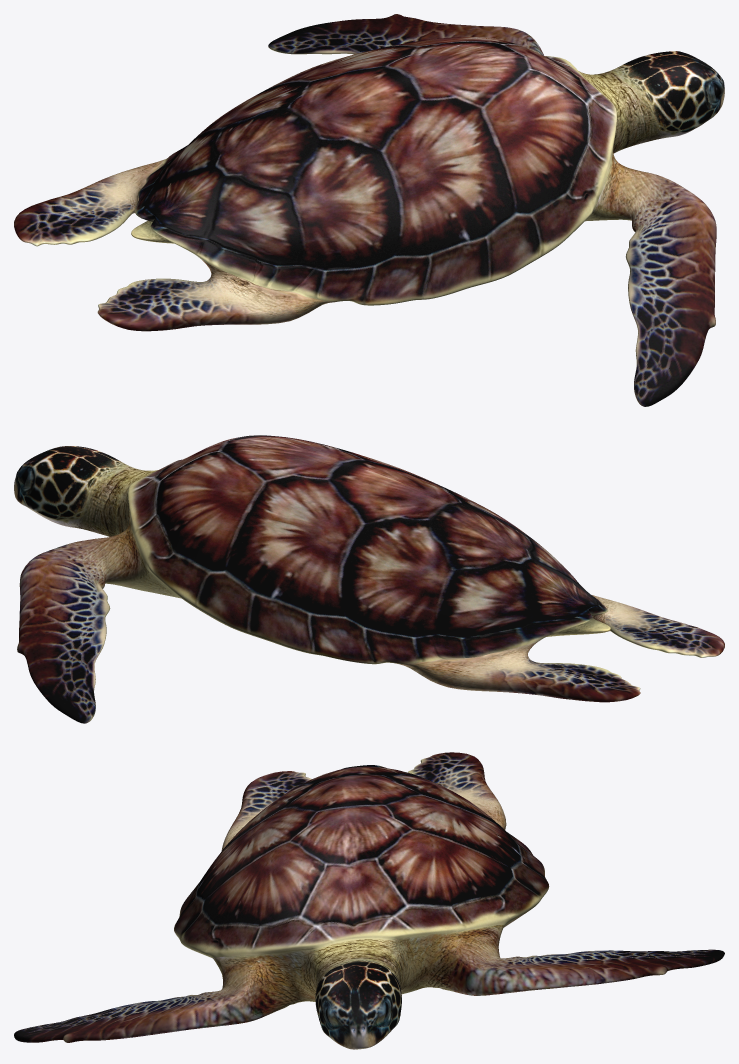
Rendered from tortuga.obj.
3 renders of one model, top to bottom at view 1: azimuth 30°, elevation 25°; view 2: azimuth 150°, elevation 25°; view 3: azimuth 270°, elevation 25°, orthographic. The views are drawn at different scales.
Parts seen in each view (by area): view 1: tortuga; view 2: tortuga; view 3: tortuga.
Boxes of the visible parts, x1,y1,x2,y2 form: tortuga: (14,14,724,406); tortuga: (14,435,724,723); tortuga: (14,752,724,1049).
Bounding box in the file's own units: 102 × 32 × 101.
Materials: 1 (1 with a texture image).
